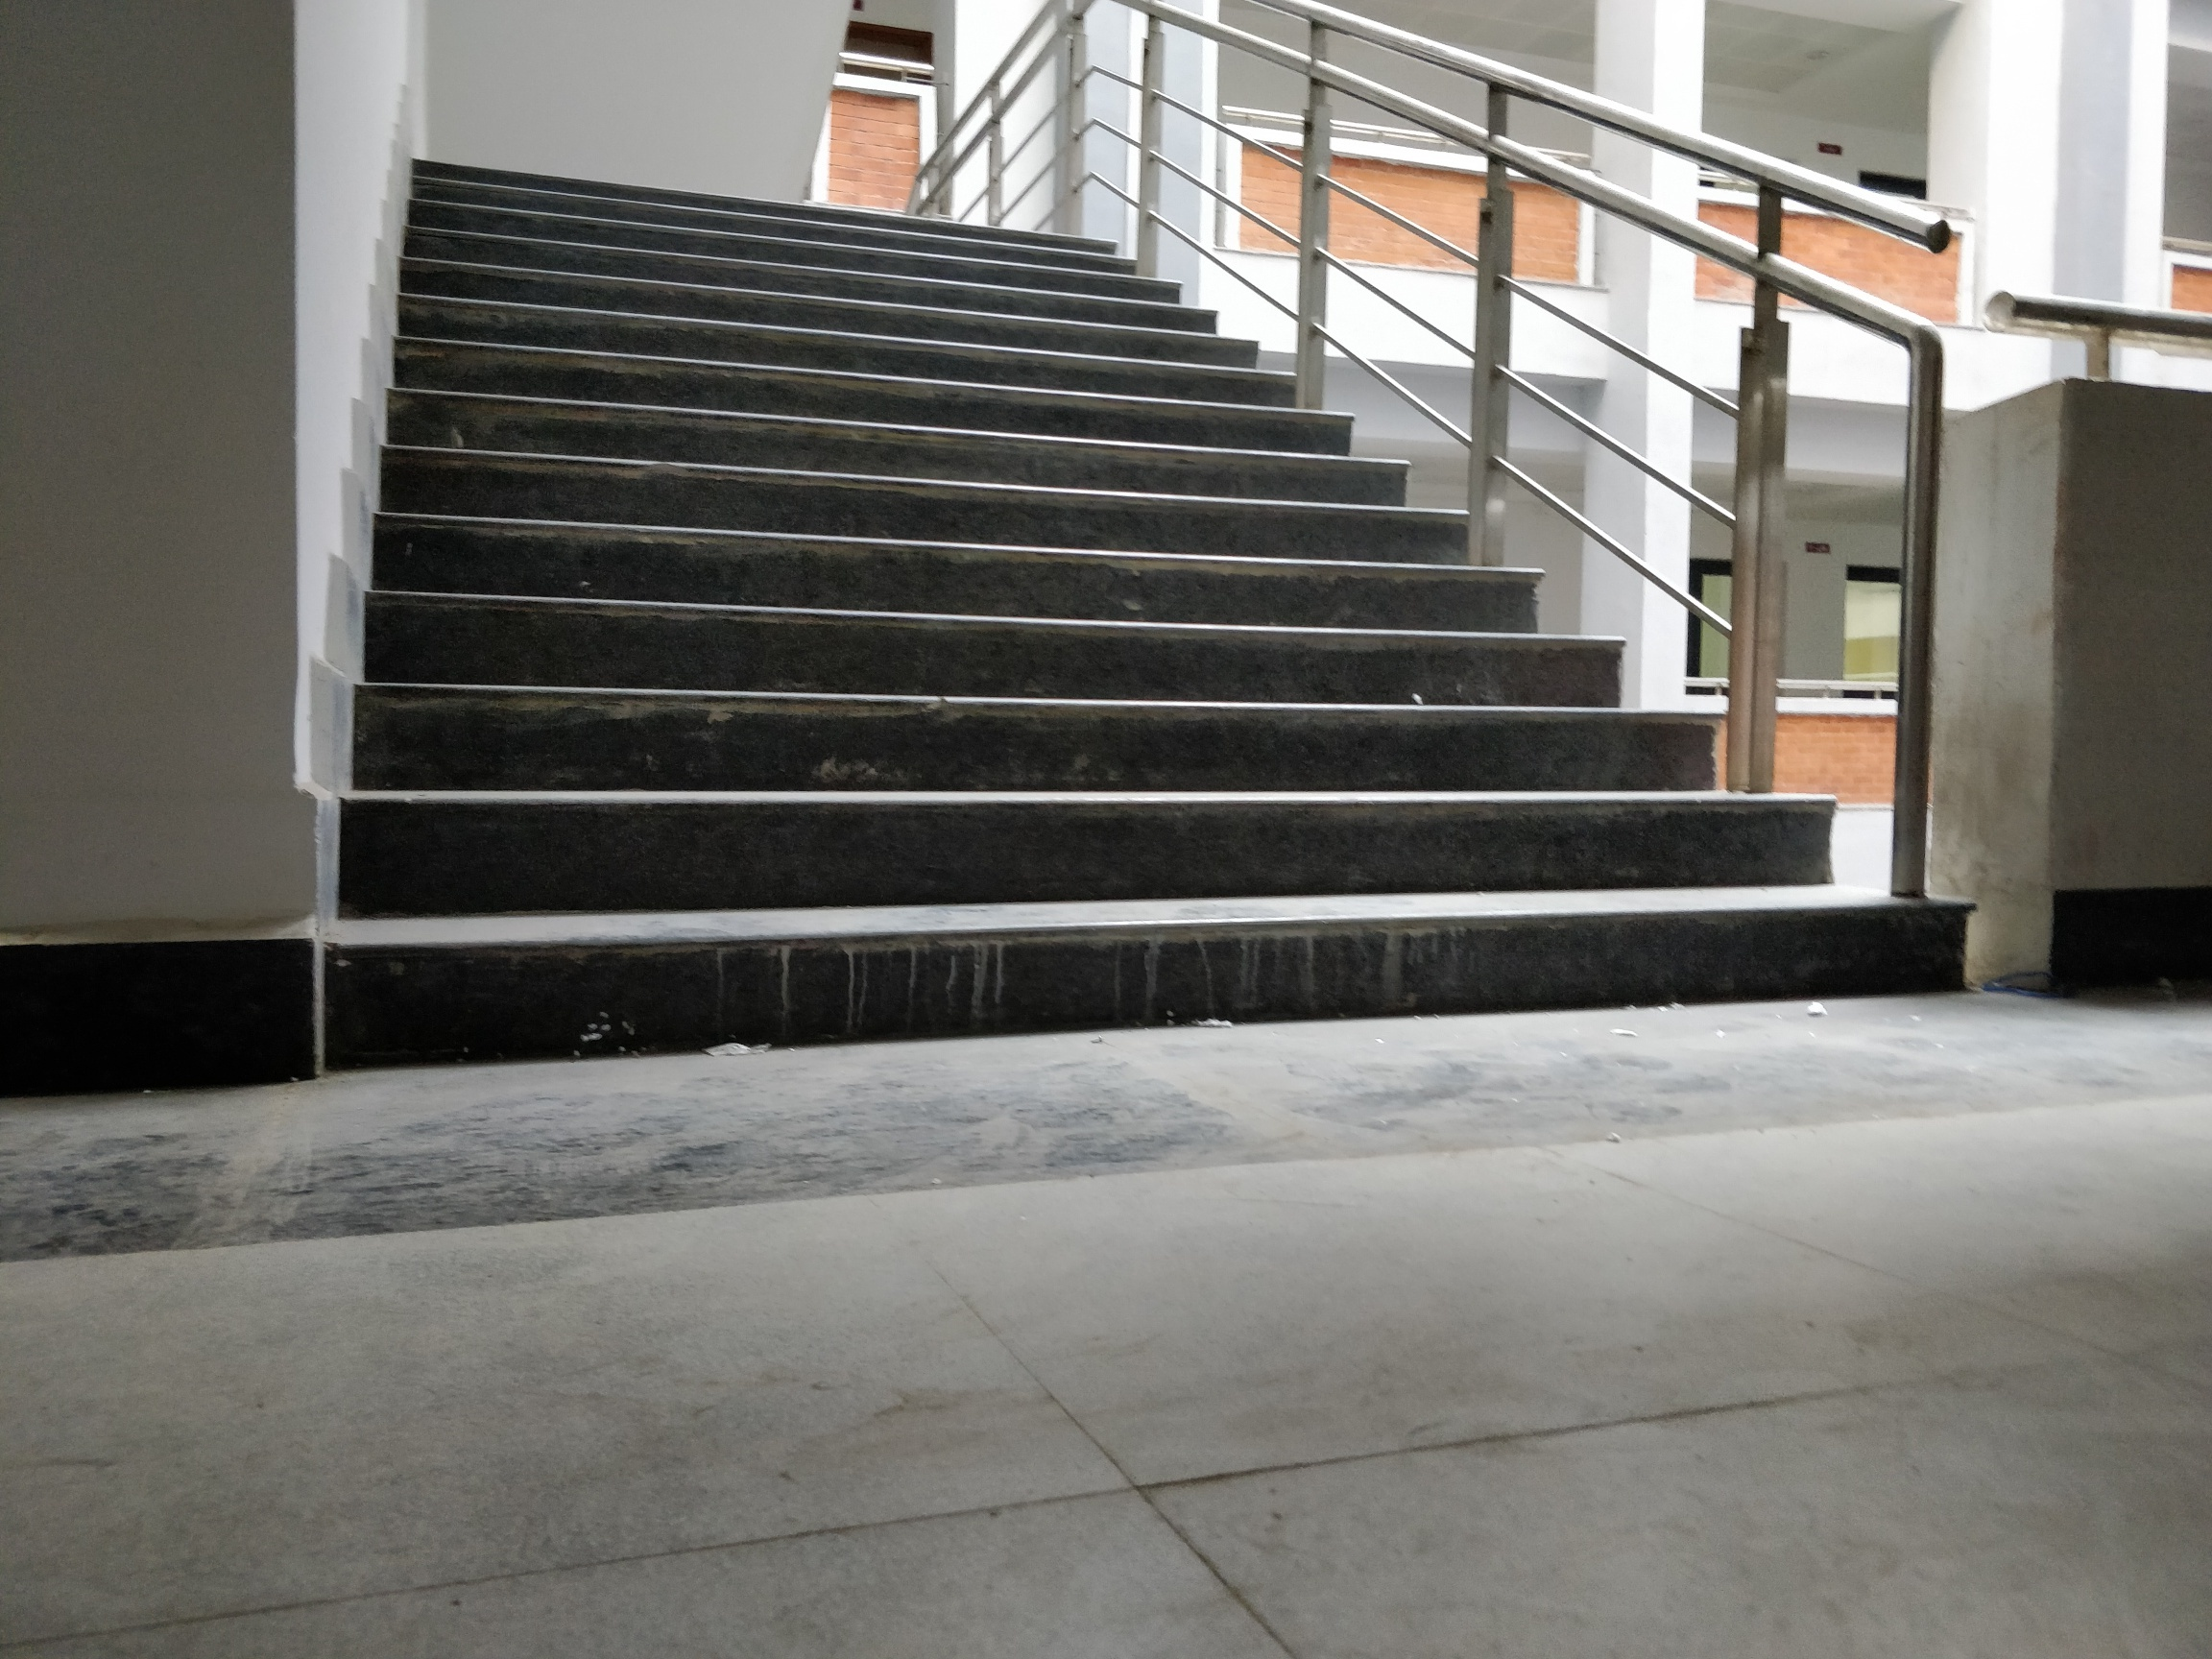stairs_up: (387, 171, 1653, 1042)
